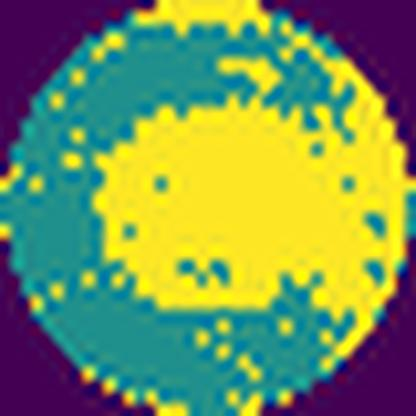Edge-Loc: (93, 40, 404, 356)
